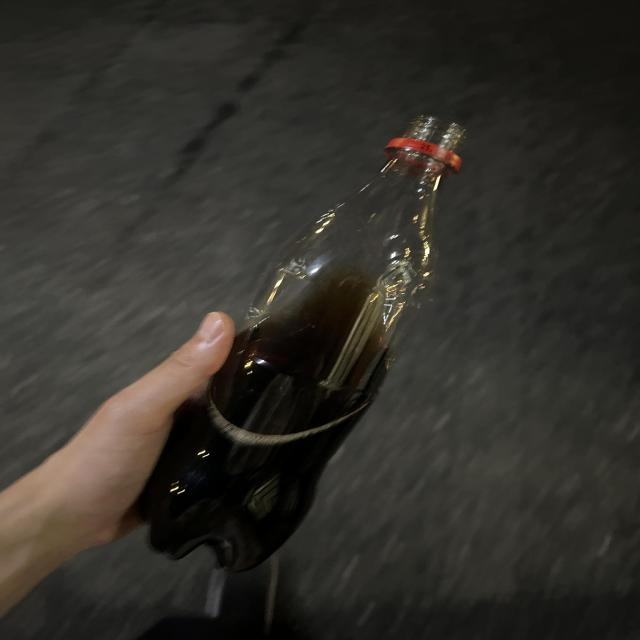medium: (139, 116, 465, 571)
